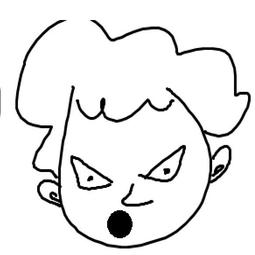ear: (202, 139, 241, 189), (30, 178, 65, 212)
eye: (135, 139, 195, 184), (68, 153, 112, 192)
open_mouth: (100, 210, 138, 242)
pointy_nose: (119, 182, 157, 208)
